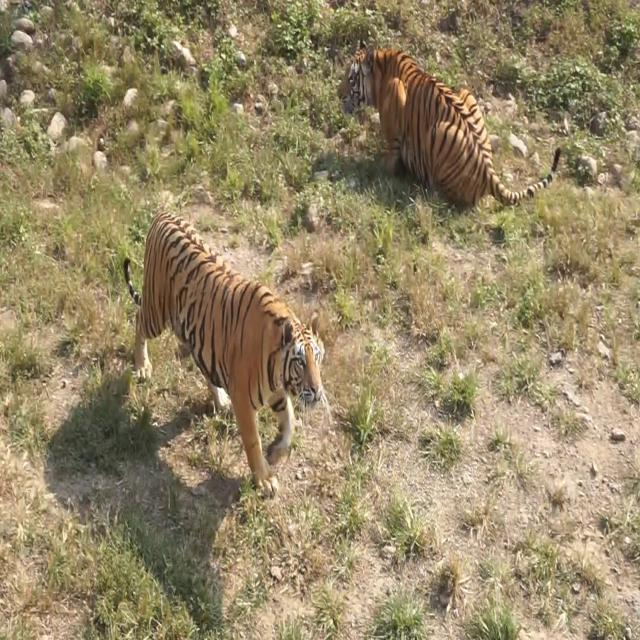Tiger: (96, 180, 338, 500), (336, 43, 561, 208)
